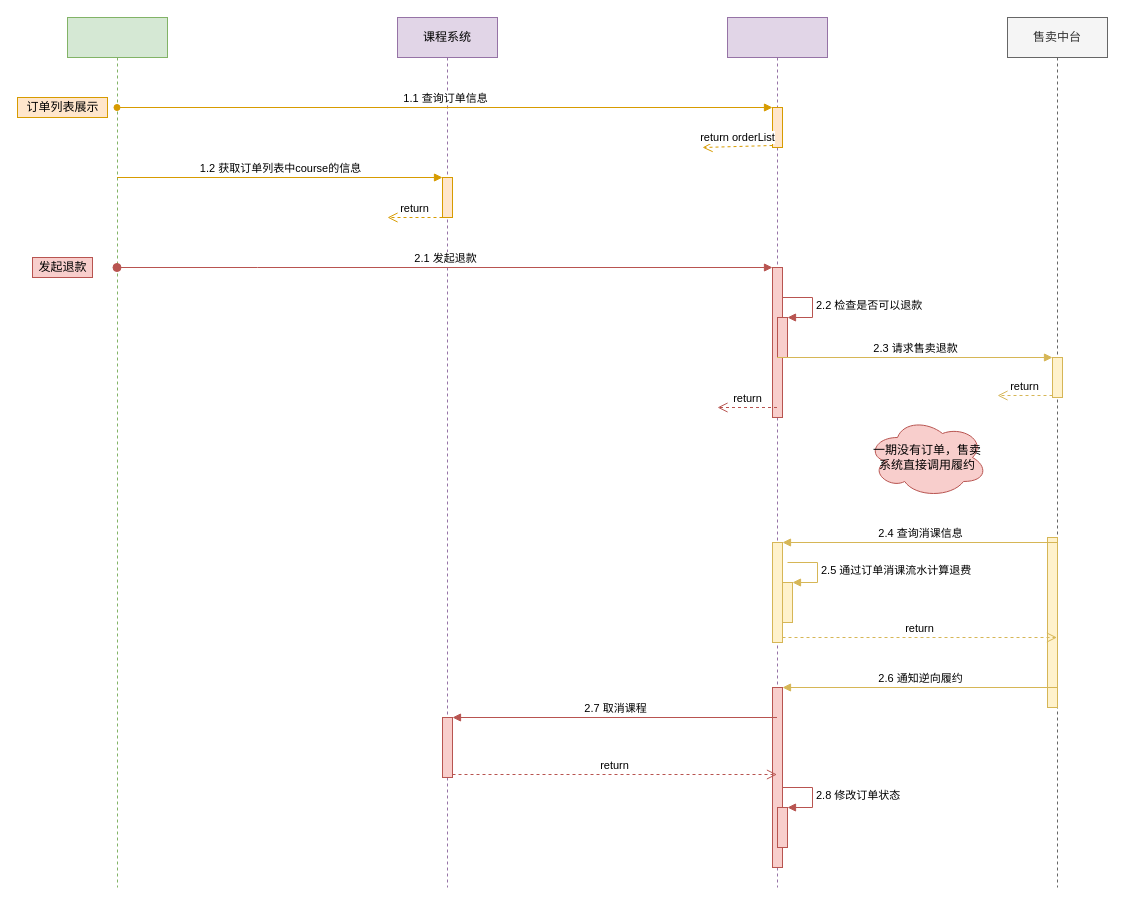
This 1125x905 diagram has some shape labels left out. The shapes that lost their labels are listed below. From the top down, each one's box as (x1, y1, x2, y2) in pixels, then its label:
(66, 16, 168, 888): 家长端Server
(726, 16, 828, 888): 售卖系统
